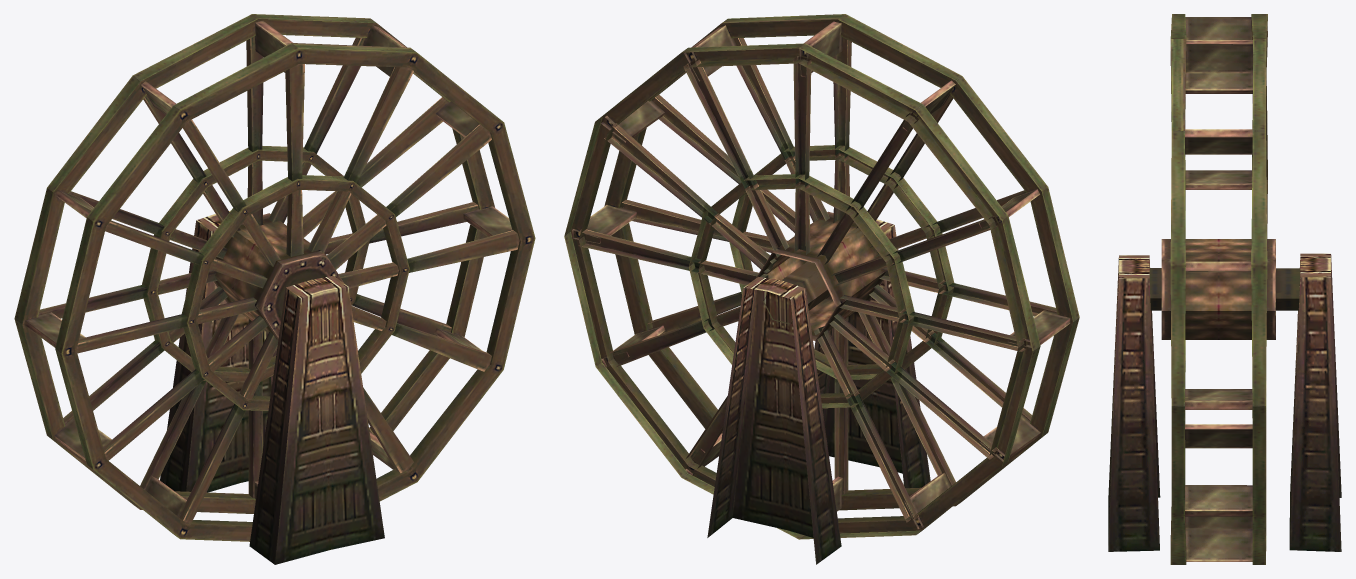
Rendered from SC_ZGFfengche01.FBX.
The picture shows the model from 3 angles, left to right: view 1: azimuth 30°, elevation 25°; view 2: azimuth 150°, elevation 25°; view 3: azimuth 270°, elevation 25°; orthographic projection. The views are drawn at different scales.
Parts seen in each view (by area): view 1: SC_ZGFfengche01, SC_ZGFfengche01_1; view 2: SC_ZGFfengche01, SC_ZGFfengche01_1; view 3: SC_ZGFfengche01, SC_ZGFfengche01_1.
Part boxes in pixels (box(x1,y1,x2,y2)): SC_ZGFfengche01: box(14, 14, 535, 541); SC_ZGFfengche01_1: box(160, 210, 384, 564); SC_ZGFfengche01: box(564, 14, 1079, 539); SC_ZGFfengche01_1: box(707, 219, 930, 564); SC_ZGFfengche01: box(1149, 14, 1299, 564); SC_ZGFfengche01_1: box(1108, 253, 1341, 551).
Size of the model in its own units: 1399 by 1399 by 591.
